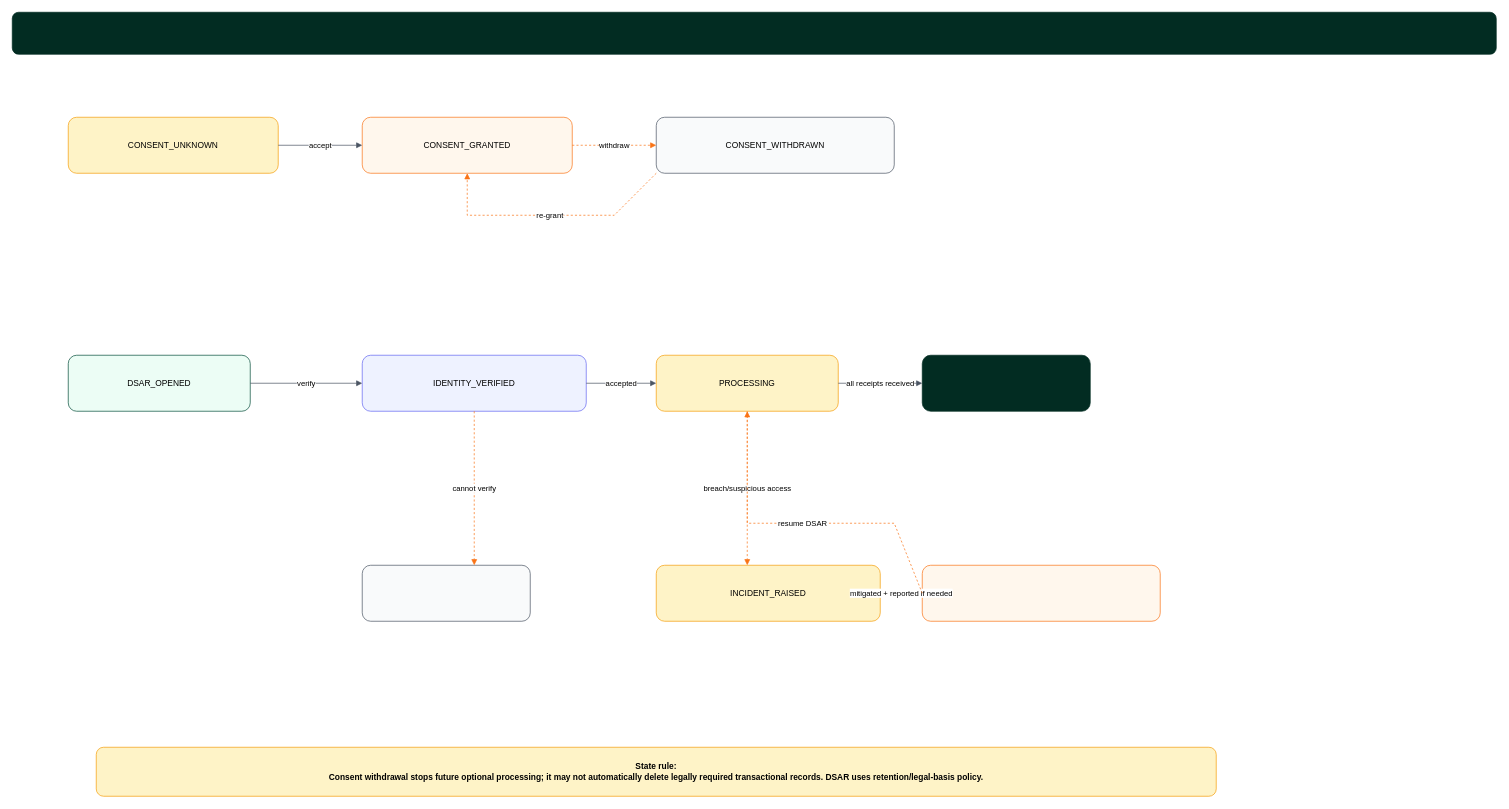
Some shapes in this 1509 by 809 pixel diagram are drawn without their labels. The centre of each missing label's shape, as x and y in pixels:
"COMPLETED" belongs at point (1006, 383).
"INCIDENT_RESOLVED" belongs at point (1041, 593).
"REJECTED" belongs at point (446, 593).
"Viaverse Consent / DSAR / Incident — State Diagram" belongs at point (754, 33).
